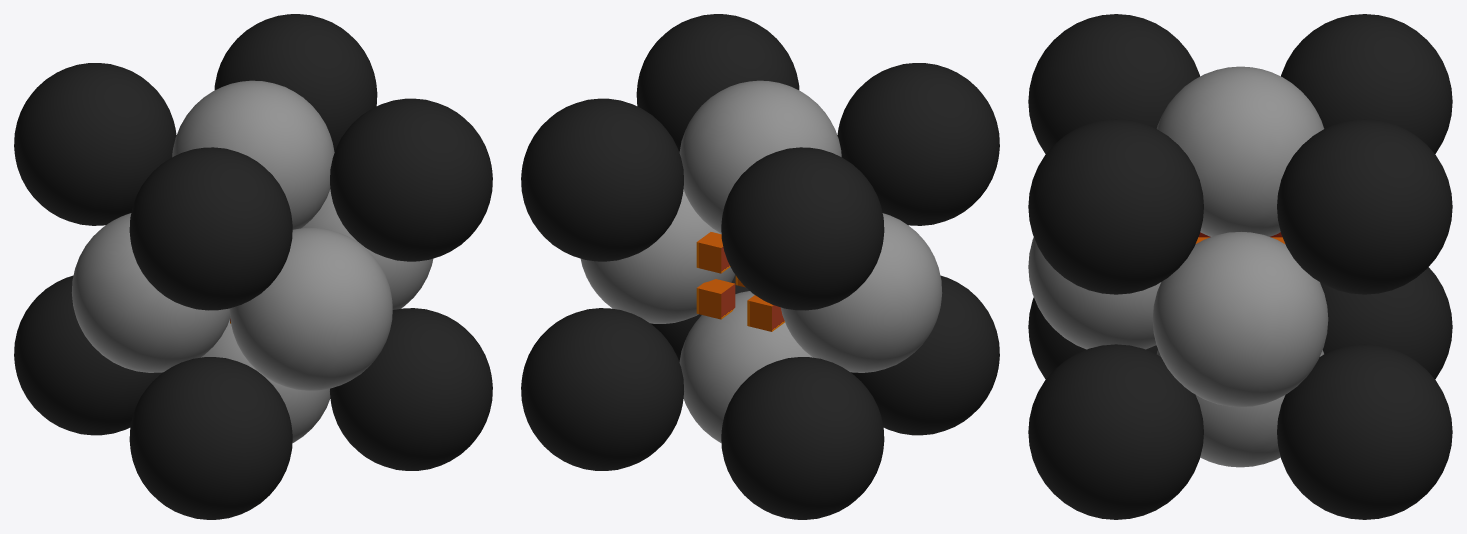
The model's file is solid_state_qn_027.glb.
The picture shows the model from 3 angles, left to right: view 1: azimuth 30°, elevation 25°; view 2: azimuth 150°, elevation 25°; view 3: azimuth 270°, elevation 25°; orthographic projection. The views are drawn at different scales.
Visible parts, largest first — view 1: Icosphere.099, Icosphere.102, Icosphere.095, Icosphere.100, Icosphere.104, Icosphere.098, Icosphere.107, Icosphere.105, Icosphere.096, Icosphere.101, Icosphere.106, Icosphere.108; view 2: Icosphere.100, Icosphere.101, Icosphere.096, Icosphere.097, Icosphere.099, Icosphere.107, Icosphere.105, Icosphere.095, Icosphere.102, Icosphere.108, Icosphere.106, Cube.017 (+3 smaller); view 3: Icosphere.101, Icosphere.102, Icosphere.098, Icosphere.097, Icosphere.108, Icosphere.105, Icosphere.099, Icosphere.100, Icosphere.096, Icosphere.104, Icosphere.106, Icosphere.095.
Part boxes in pixels (box(x1,y1,x2,y2)): Icosphere.099: box(129, 147, 292, 310); Icosphere.102: box(330, 98, 492, 261); Icosphere.095: box(129, 357, 292, 519); Icosphere.100: box(14, 63, 176, 225); Icosphere.104: box(229, 227, 392, 390); Icosphere.098: box(330, 308, 492, 470); Icosphere.107: box(71, 213, 230, 372); Icosphere.105: box(172, 80, 334, 229); Icosphere.096: box(14, 275, 162, 435); Icosphere.101: box(214, 14, 377, 151); Icosphere.106: box(201, 319, 330, 443); Icosphere.108: box(302, 189, 433, 309); Icosphere.100: box(721, 147, 884, 310); Icosphere.101: box(521, 98, 683, 261); Icosphere.096: box(721, 357, 884, 519); Icosphere.097: box(521, 308, 683, 470); Icosphere.099: box(837, 63, 999, 225); Icosphere.107: box(780, 213, 942, 372); Icosphere.105: box(679, 80, 841, 233); Icosphere.095: box(851, 275, 999, 435); Icosphere.102: box(636, 14, 799, 152); Icosphere.108: box(580, 189, 735, 323); Icosphere.106: box(679, 291, 812, 443); Cube.017: box(696, 279, 735, 319); Icosphere.101: box(1277, 119, 1452, 294); Icosphere.102: box(1028, 119, 1203, 294); Icosphere.098: box(1028, 344, 1203, 519); Icosphere.097: box(1277, 344, 1452, 519); Icosphere.108: box(1152, 232, 1328, 407); Icosphere.105: box(1156, 66, 1324, 236); Icosphere.099: box(1028, 14, 1199, 153); Icosphere.100: box(1281, 14, 1452, 153); Icosphere.096: box(1320, 267, 1452, 379); Icosphere.104: box(1028, 237, 1160, 349); Icosphere.106: box(1157, 349, 1323, 467); Icosphere.095: box(1028, 297, 1157, 379).
Size of the model in its own units: 4.83 by 4.83 by 4.83.
1 material, 1 textured.
